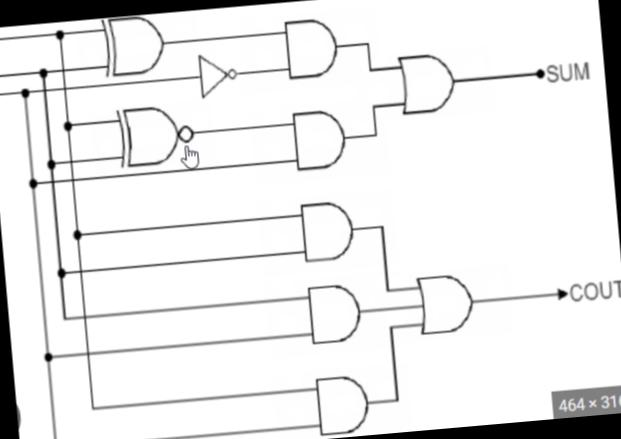and: (274, 8, 346, 94), (304, 363, 384, 439), (284, 101, 356, 181), (300, 272, 368, 349), (294, 192, 360, 270)
not: (184, 46, 243, 104)
or: (399, 258, 480, 347), (386, 42, 465, 124)
xnor: (111, 102, 194, 172)
xor: (86, 12, 168, 82)
